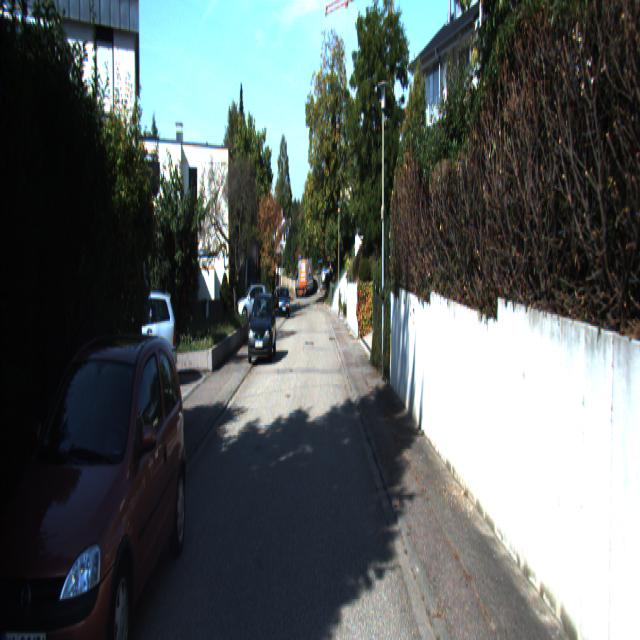Car: (0, 333, 189, 638), (78, 292, 178, 403), (248, 291, 277, 363), (236, 281, 270, 321)
